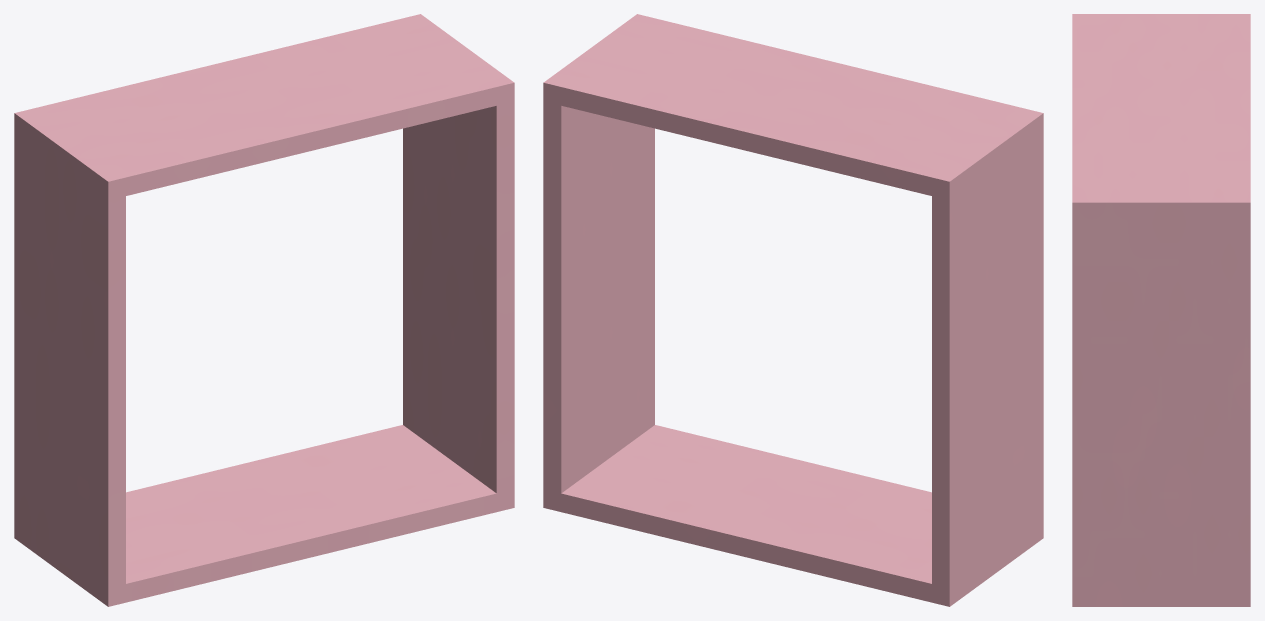
Rendered from Wall_Shelf_02_03.fbx.
The picture shows the model from 3 angles, left to right: view 1: azimuth 30°, elevation 25°; view 2: azimuth 150°, elevation 25°; view 3: azimuth 270°, elevation 25°; orthographic projection. The views are drawn at different scales.
Parts seen in each view (by area): view 1: Wall_Shelf_02_03; view 2: Wall_Shelf_02_03; view 3: Wall_Shelf_02_03.
Part boxes in pixels (x1,y1,x2,y2): Wall_Shelf_02_03: [14, 14, 514, 606]; Wall_Shelf_02_03: [543, 14, 1043, 606]; Wall_Shelf_02_03: [1072, 14, 1250, 606].
Size of the model in its own units: 0.744 by 0.744 by 0.2976.
